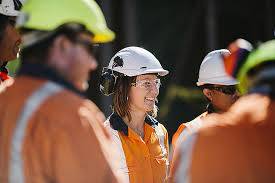hard hat: (16, 1, 116, 43), (105, 46, 168, 76), (195, 49, 241, 85)
high-vis: (1, 74, 129, 183), (170, 92, 274, 183), (102, 113, 169, 183)
